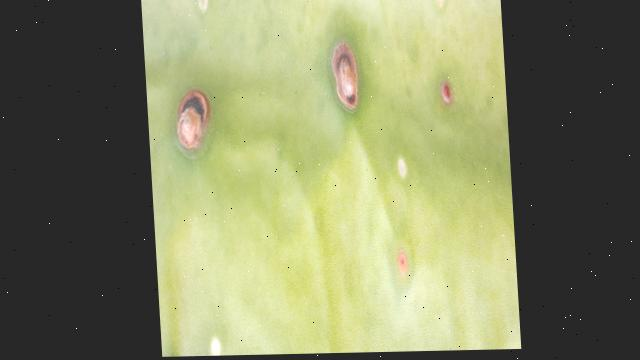stemcanker: (174, 79, 216, 157), (326, 40, 364, 116), (390, 240, 415, 284), (437, 73, 457, 112)
